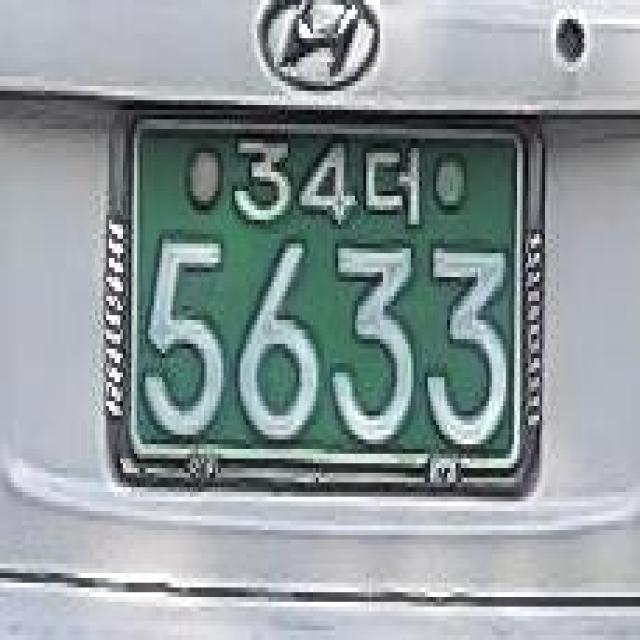illegal_plate: (90, 88, 557, 526)
